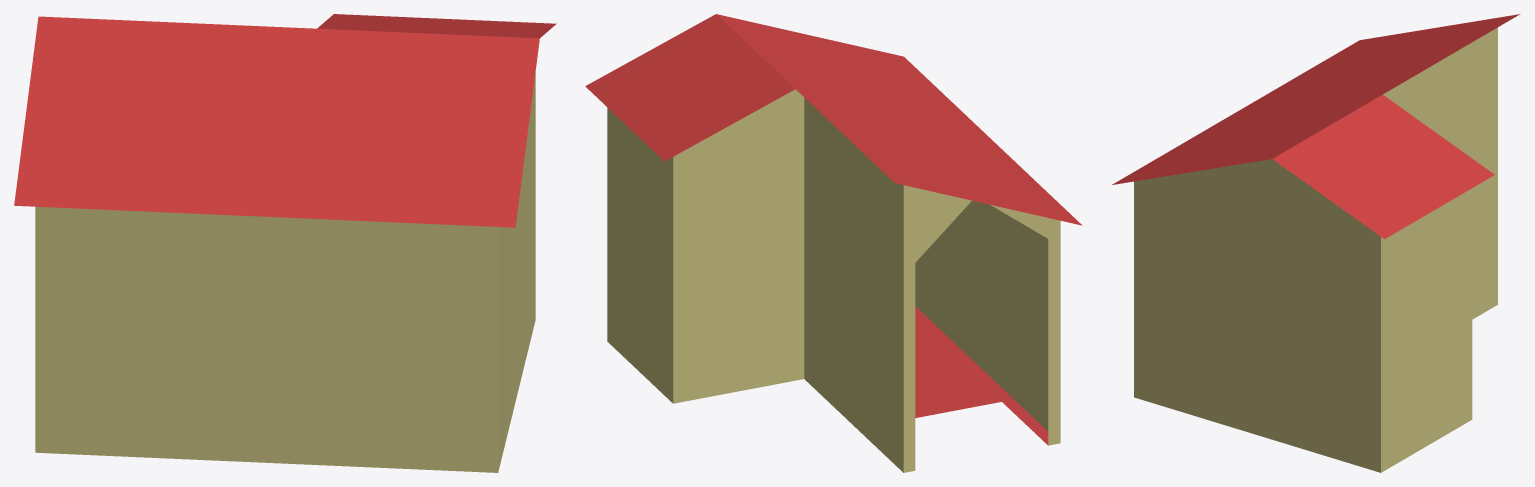
The picture shows the model from 3 angles, left to right: view 1: azimuth 30°, elevation 25°; view 2: azimuth 150°, elevation 25°; view 3: azimuth 270°, elevation 25°; orthographic projection. The views are drawn at different scales.
Size of the model in its own units: 16.53 by 12.51 by 9.75.
